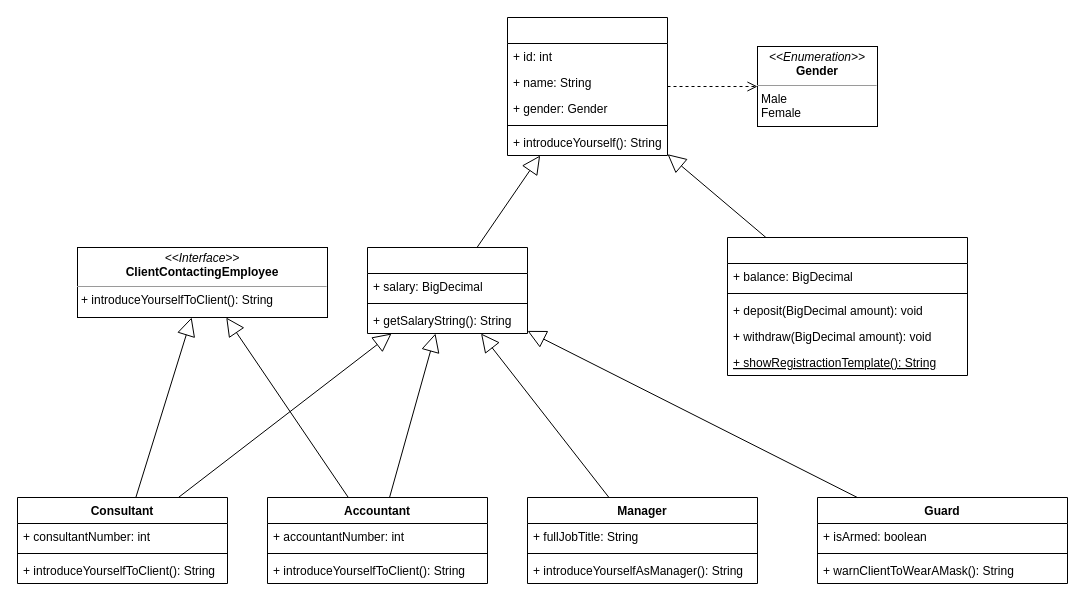
The diagram is 1085 pixels wide and 604 high, and some of its shapes have lost their labels. Here are the shapes that lost their labels. From the top down, the box of each, then its label:
(506, 16, 668, 156): Person
(366, 246, 528, 334): Employee
(726, 236, 968, 376): Client
